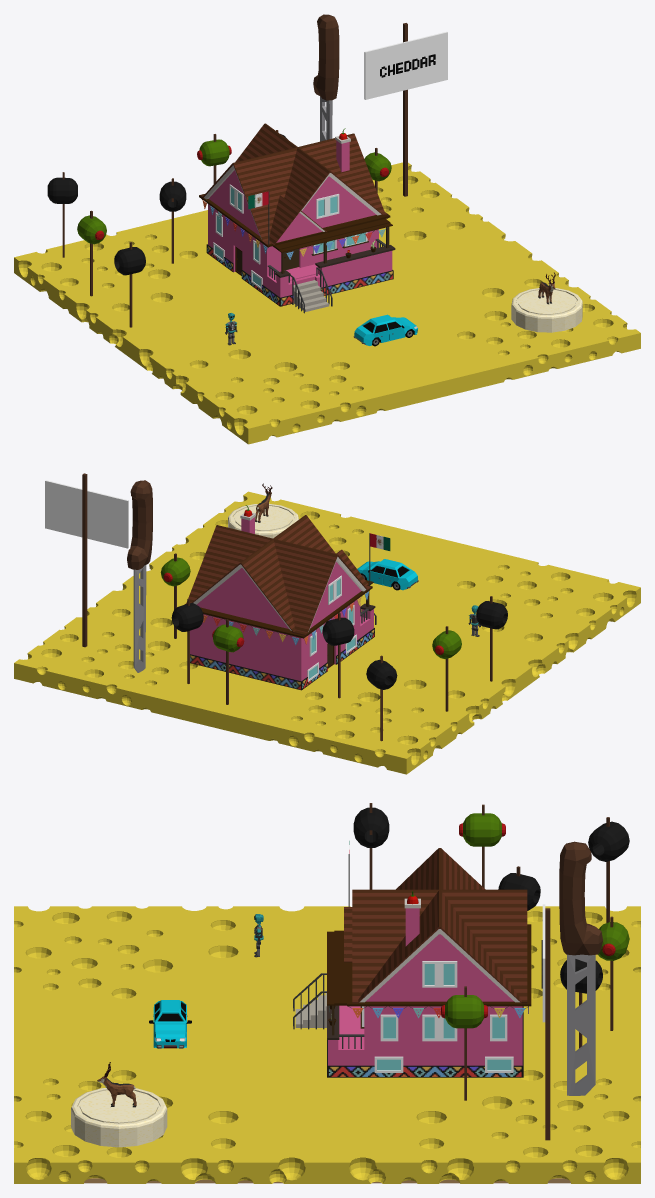
3 views of the same model, one above another, from view 1: azimuth 30°, elevation 25°; view 2: azimuth 150°, elevation 25°; view 3: azimuth 270°, elevation 25° (orthographic). The views are drawn at different scales.
Visible parts, largest first — view 1: Cube.022, Cube.1005, Cube.023, Cylinder.016, Cube.024, VEHICLES_CAR, Sphere.017, Sphere.016, Sphere.020, Sphere.018, Sphere.022, Sphere.019; view 2: Cube.022, Cube.1005, Cube.023, Cube.024, Cylinder.016, VEHICLES_CAR, Sphere.017, Sphere.020, Sphere.021, Sphere.016, Sphere.018, Sphere.022 (+1 smaller); view 3: Cube.022, Cube.1005, Cube.024, Cylinder.016, Cube.023, VEHICLES_CAR, Sphere.019, Sphere.016, Sphere.018, Sphere.017, Sphere.022, Sphere.020 (+3 smaller).
Boxes of the visible parts, left/top/right/bottom form: Cube.022: left=14, top=162, right=640, bottom=444; Cube.1005: left=199, top=123, right=395, bottom=313; Cube.023: left=364, top=23, right=447, bottom=196; Cylinder.016: left=511, top=288, right=582, bottom=332; Cube.024: left=313, top=14, right=339, bottom=141; VEHICLES_CAR: left=353, top=314, right=417, bottom=346; Sphere.017: left=114, top=242, right=145, bottom=327; Sphere.016: left=47, top=172, right=77, bottom=257; Sphere.020: left=159, top=178, right=186, bottom=263; Sphere.018: left=77, top=210, right=106, bottom=296; Sphere.022: left=197, top=134, right=231, bottom=183; Sphere.019: left=364, top=148, right=391, bottom=192; Cube.022: left=14, top=491, right=640, bottom=774; Cube.1005: left=184, top=505, right=390, bottom=690; Cube.023: left=45, top=473, right=128, bottom=647; Cube.024: left=127, top=480, right=152, bottom=672; Cylinder.016: left=228, top=503, right=298, bottom=538; VEHICLES_CAR: left=357, top=559, right=418, bottom=590; Sphere.017: left=476, top=596, right=507, bottom=681; Sphere.020: left=322, top=612, right=354, bottom=698; Sphere.021: left=171, top=598, right=203, bottom=683; Sphere.016: left=366, top=655, right=397, bottom=741; Sphere.018: left=432, top=626, right=461, bottom=711; Sphere.022: left=212, top=619, right=244, bottom=704; Cube.022: left=14, top=906, right=640, bottom=1183; Cube.1005: left=293, top=841, right=531, bottom=1077; Cube.024: left=559, top=841, right=602, bottom=1095; Cylinder.016: left=71, top=1088, right=167, bottom=1147; Cube.023: left=541, top=904, right=550, bottom=1140; VEHICLES_CAR: left=149, top=1000, right=191, bottom=1048; Sphere.019: left=441, top=986, right=487, bottom=1100; Sphere.016: left=588, top=817, right=629, bottom=922; Sphere.018: left=459, top=804, right=505, bottom=888; Sphere.017: left=353, top=803, right=389, bottom=889; Sphere.022: left=598, top=916, right=629, bottom=1030; Sphere.020: left=498, top=866, right=540, bottom=910.
Bounding box in the file's own units: 3917 × 1957 × 4000.
Materials: 74 (6 with a texture image).
